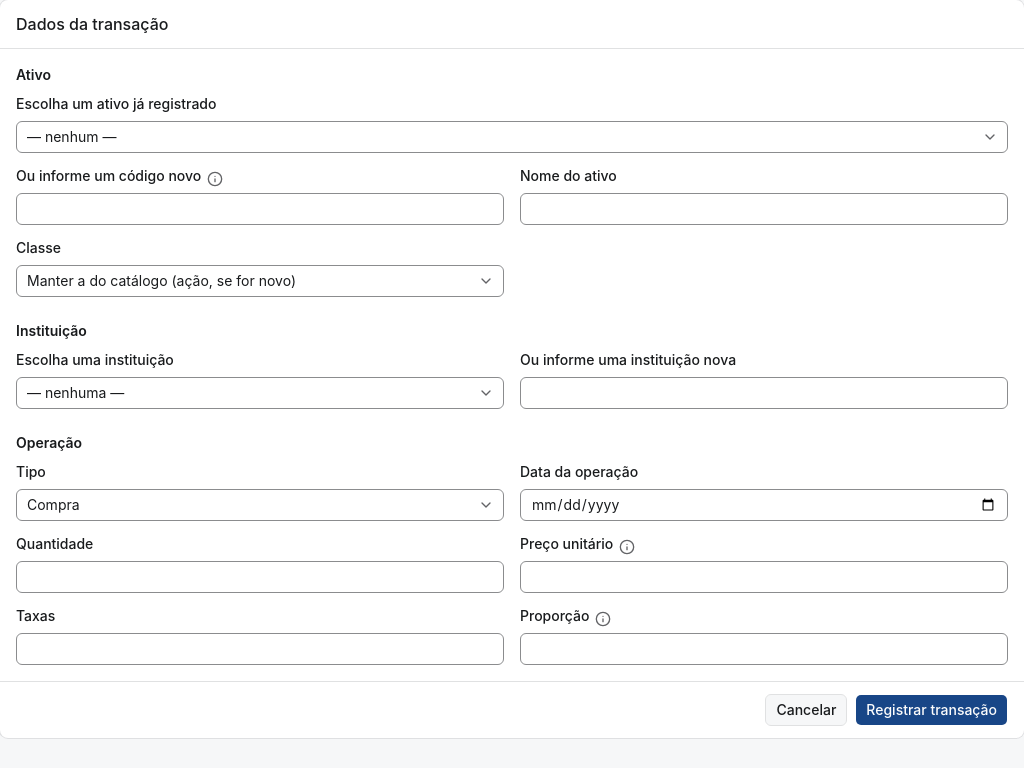
TransactionForm › puts a field refusal under its field and keeps what was typed
// Every `required` field filled: jsdom, like a browser, will not submit otherwise.
Type "2026-04-01" into the date field labelled "Data da operação".
click(764, 505); type("2026-04-01")  # box [520, 489, 1008, 521]
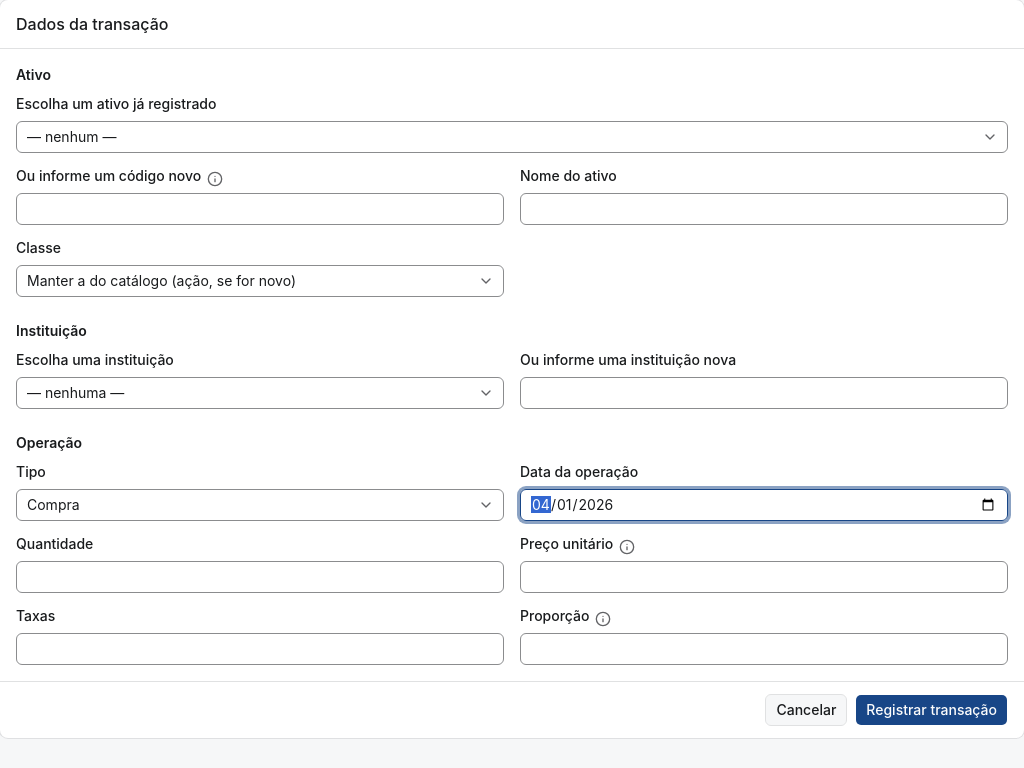
Type "10" into the field labelled "Quantidade".
click(260, 577); type("10")  # box [16, 561, 504, 593]
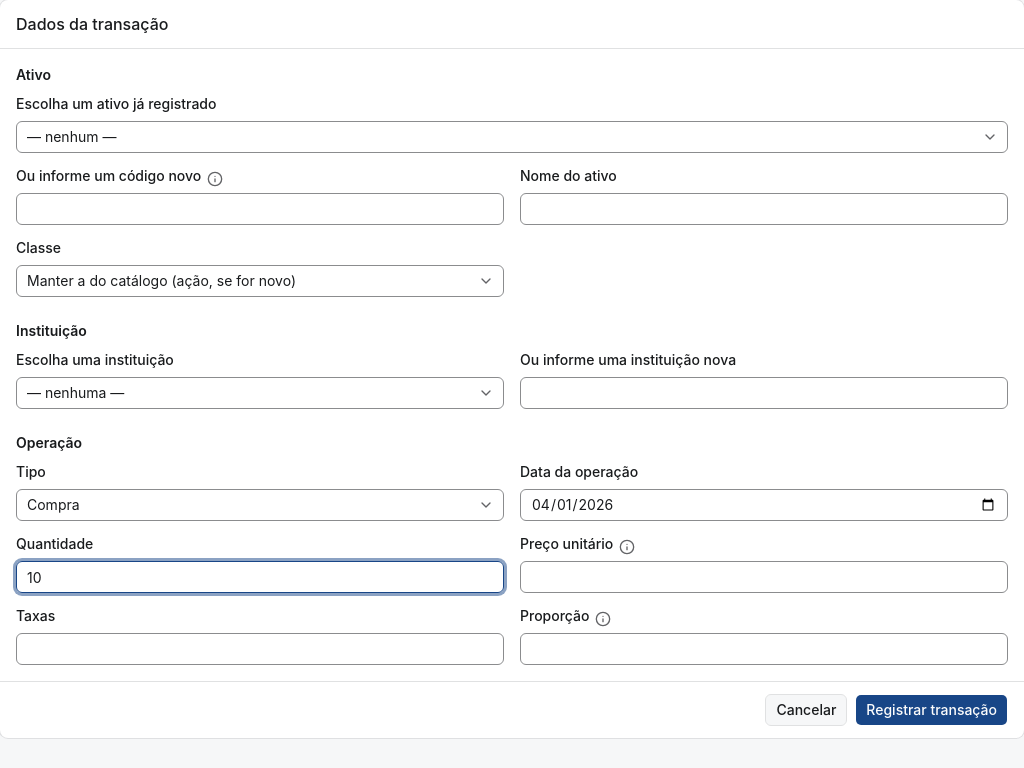
Type "32,15" into the field labelled "Preço unitário".
click(764, 577); type("32,15")  # box [520, 561, 1008, 593]
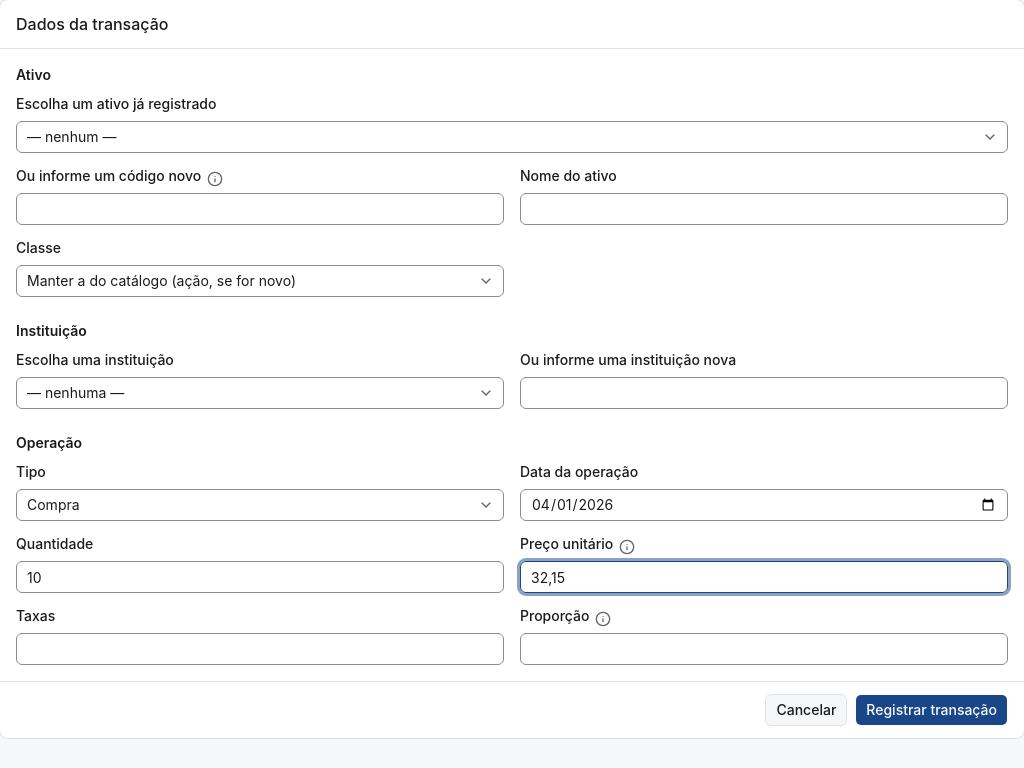
Type "-1" into the field labelled "Taxas".
click(260, 649); type("-1")  # box [16, 633, 504, 665]
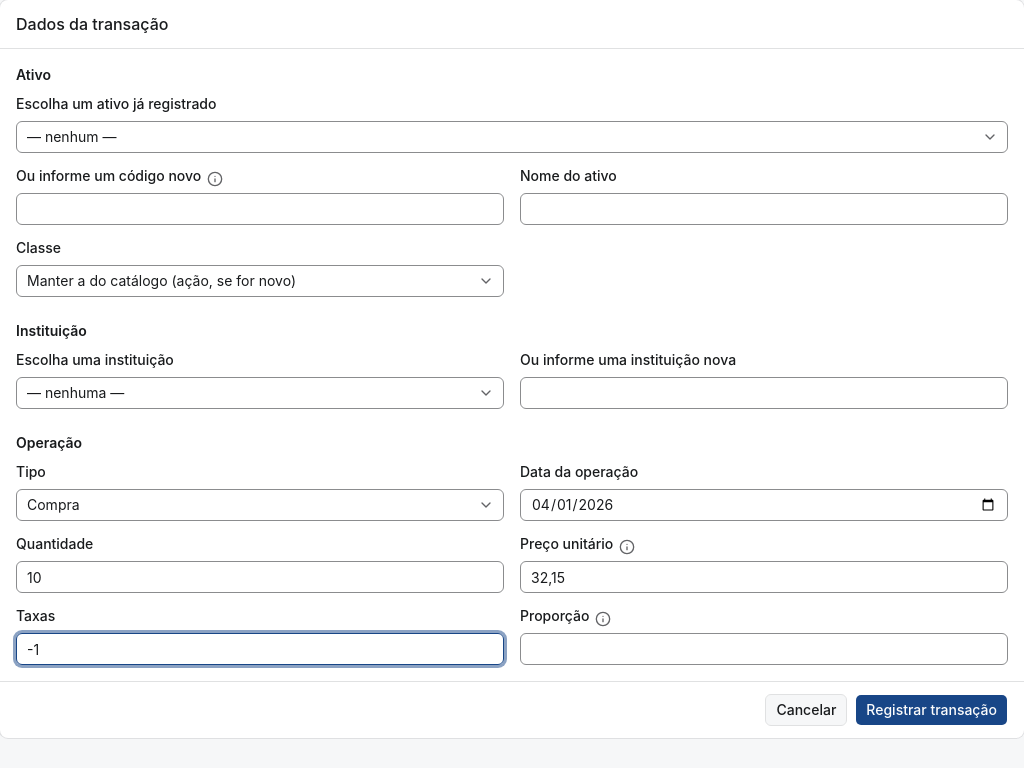
Click the button "Registrar transação".
click(932, 710)  # box [855, 694, 1008, 726]
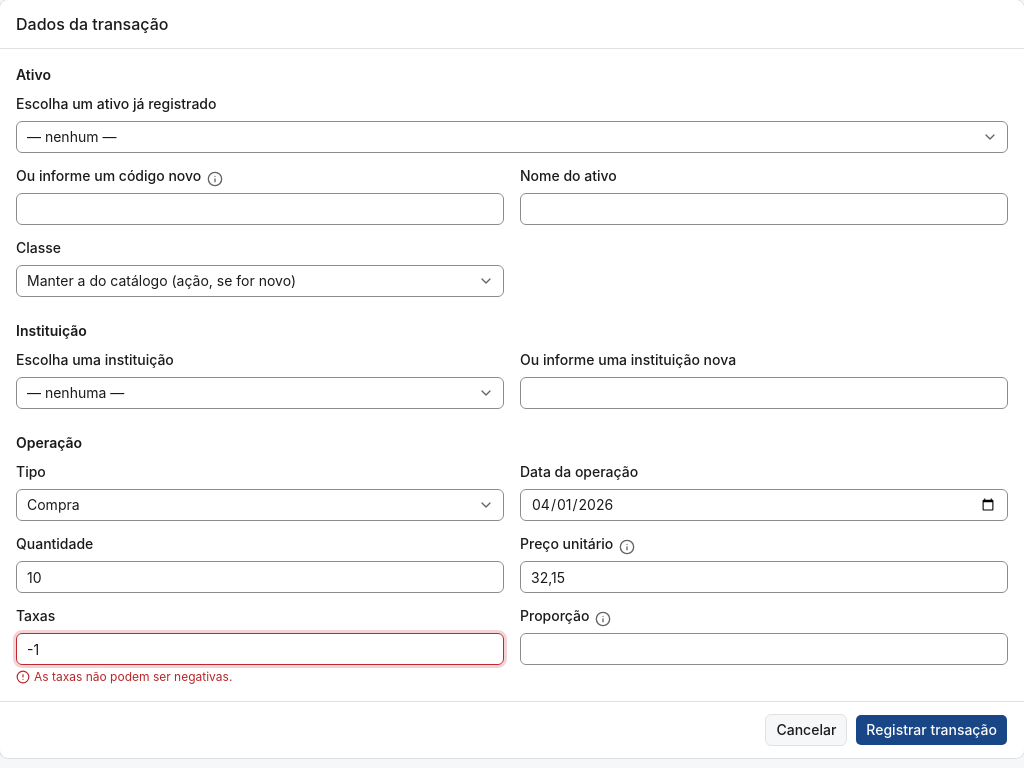
Expected: the field labelled "Quantidade" holds "10", [16, 561, 504, 593]
Expected: the field labelled "Preço unitário" holds "32,15", [520, 561, 1008, 593]
Expected: the text "As taxas não podem ser negativas." is shown, [16, 669, 232, 684]
